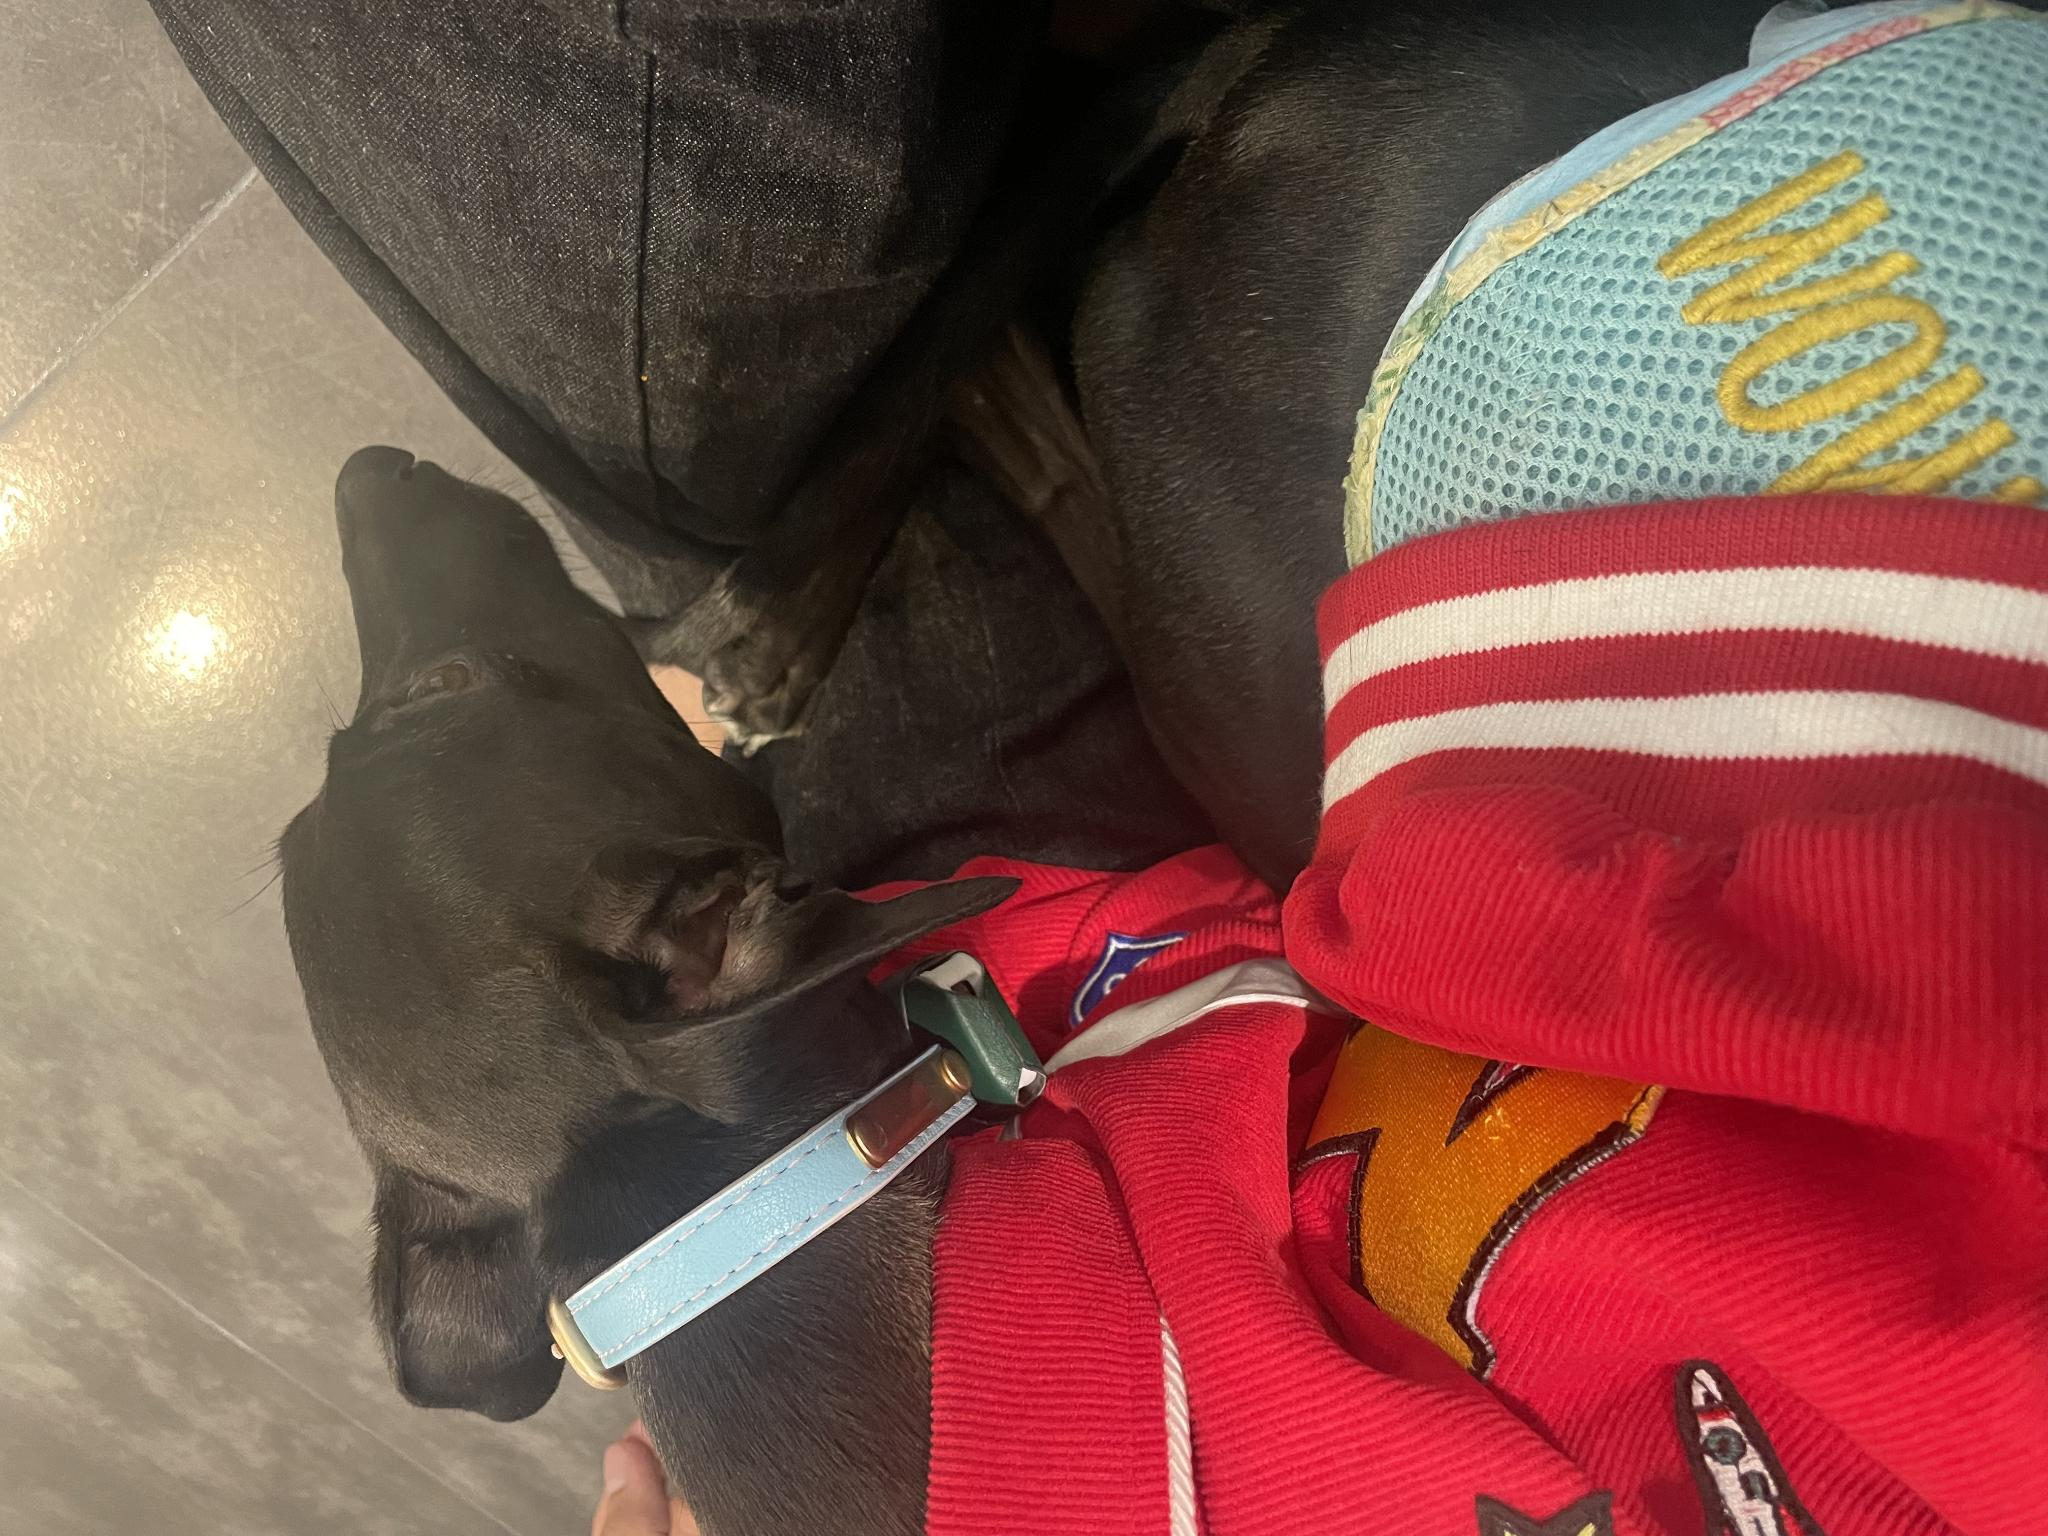dog: (261, 2, 1788, 1530)
